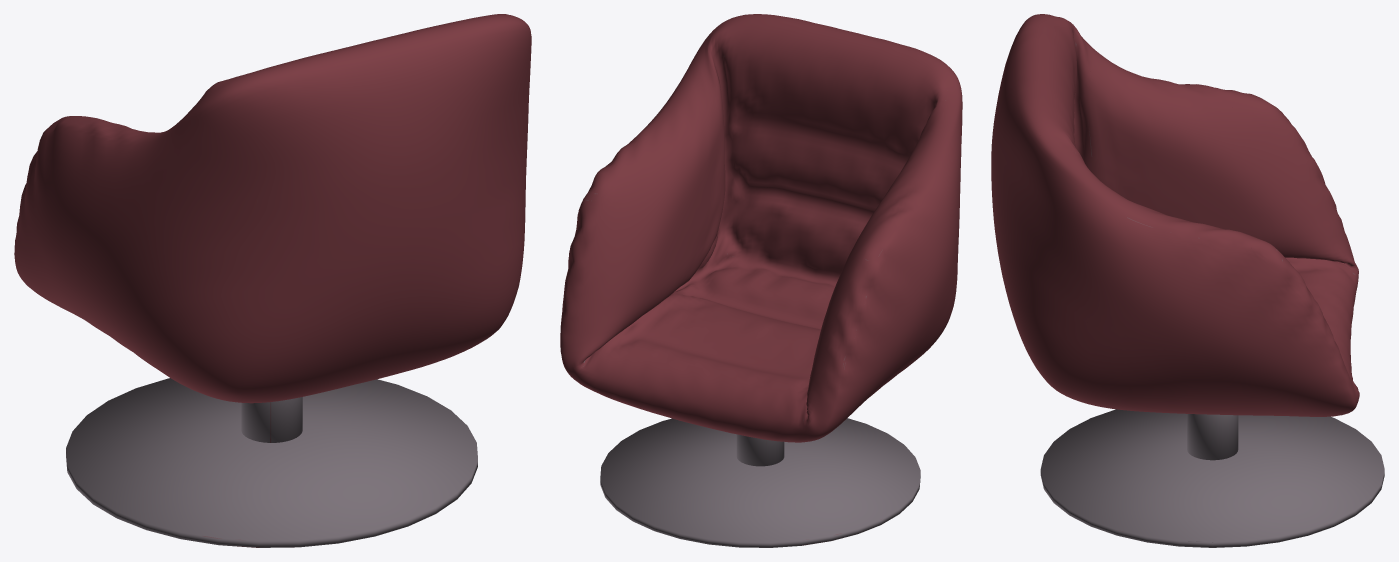
File: Chair.fbx
3 views of the same model, side by side, from view 1: azimuth 30°, elevation 25°; view 2: azimuth 150°, elevation 25°; view 3: azimuth 270°, elevation 25° (orthographic). The views are drawn at different scales.
Parts seen in each view (by area): view 1: Cube.033; view 2: Cube.033; view 3: Cube.033.
Boxes of the visible parts, x1=… form: Cube.033: x1=14, y1=14, x2=531, y2=547; Cube.033: x1=560, y1=14, x2=962, y2=547; Cube.033: x1=991, y1=14, x2=1384, y2=547.
Bounding box in the file's own units: 83.13 × 93.47 × 80.56.
Materials: 2 (2 with a texture image).
